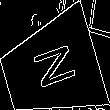N_W: (24, 42, 78, 96)
